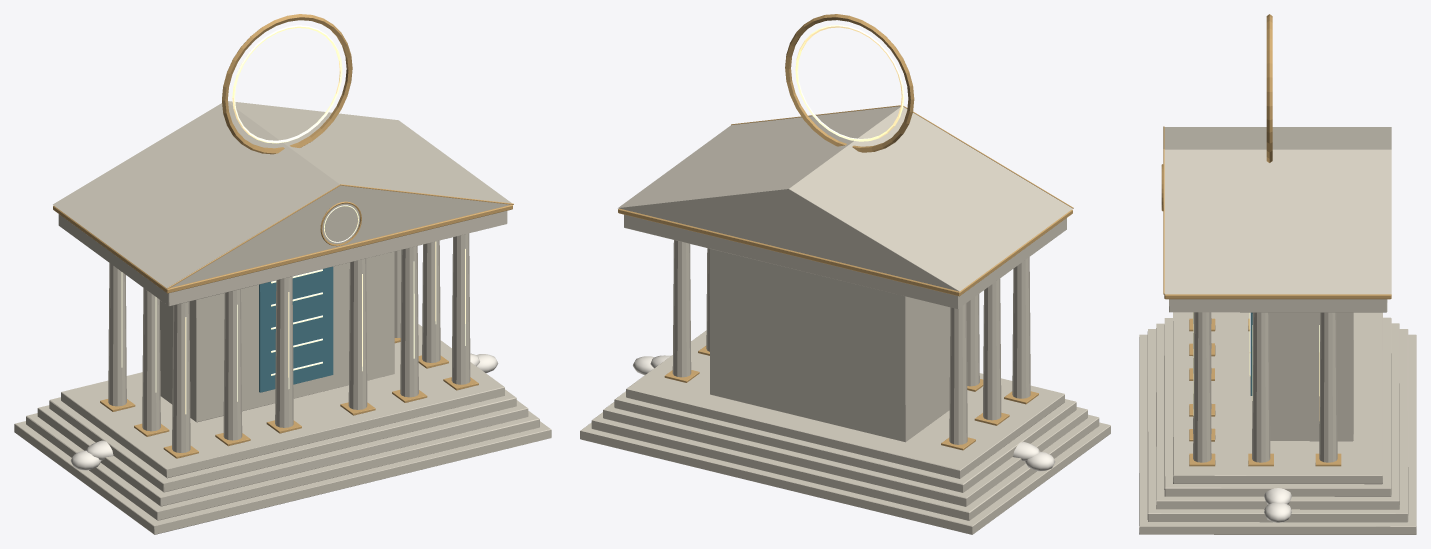
The model's file is div3_server_temple.glb.
3 views of the same model, side by side, from view 1: azimuth 30°, elevation 25°; view 2: azimuth 150°, elevation 25°; view 3: azimuth 270°, elevation 25° (orthographic).
Visible parts, largest first — view 1: div3_server_temple__porcelain-ivory, div3_server_temple__satin-honey-brass, div3_server_temple__glazed-petrol, div3_server_temple__warm-luminous, div3_server_temple__cloud-cream; view 2: div3_server_temple__porcelain-ivory, div3_server_temple__satin-honey-brass, div3_server_temple__cloud-cream, div3_server_temple__warm-luminous; view 3: div3_server_temple__porcelain-ivory, div3_server_temple__satin-honey-brass, div3_server_temple__cloud-cream, div3_server_temple__warm-luminous.
Part boxes in pixels (left/top/right/bottom): div3_server_temple__porcelain-ivory: left=14, top=101, right=551, bottom=534; div3_server_temple__satin-honey-brass: left=53, top=14, right=513, bottom=458; div3_server_temple__glazed-petrol: left=259, top=266, right=333, bottom=392; div3_server_temple__warm-luminous: left=121, top=25, right=465, bottom=414; div3_server_temple__cloud-cream: left=70, top=353, right=498, bottom=470; div3_server_temple__porcelain-ivory: left=580, top=106, right=1110, bottom=534; div3_server_temple__satin-honey-brass: left=618, top=14, right=1073, bottom=450; div3_server_temple__cloud-cream: left=633, top=355, right=1055, bottom=471; div3_server_temple__warm-luminous: left=795, top=25, right=904, bottom=141; div3_server_temple__porcelain-ivory: left=1139, top=127, right=1416, bottom=534; div3_server_temple__satin-honey-brass: left=1161, top=14, right=1391, bottom=466; div3_server_temple__cloud-cream: left=1264, top=488, right=1291, bottom=522; div3_server_temple__warm-luminous: left=1193, top=312, right=1319, bottom=420.
Size of the model in its own units: 57.66 by 54.88 by 32.95.
